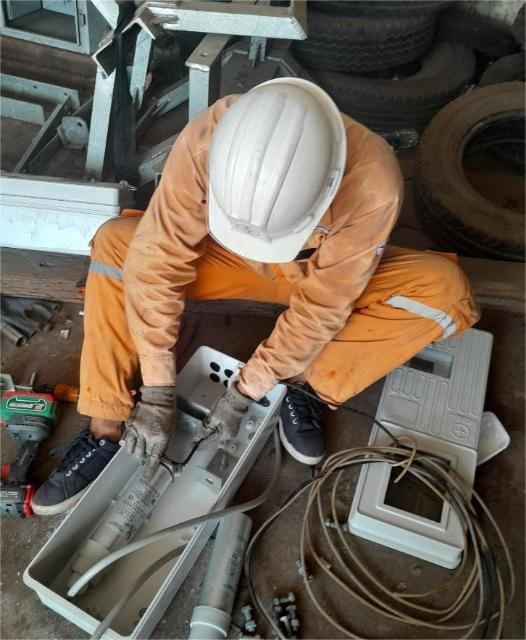gloves: (122, 373, 187, 481), (196, 369, 256, 457)
helmet: (191, 76, 346, 244)
shoes: (23, 416, 130, 531), (275, 364, 349, 480)
